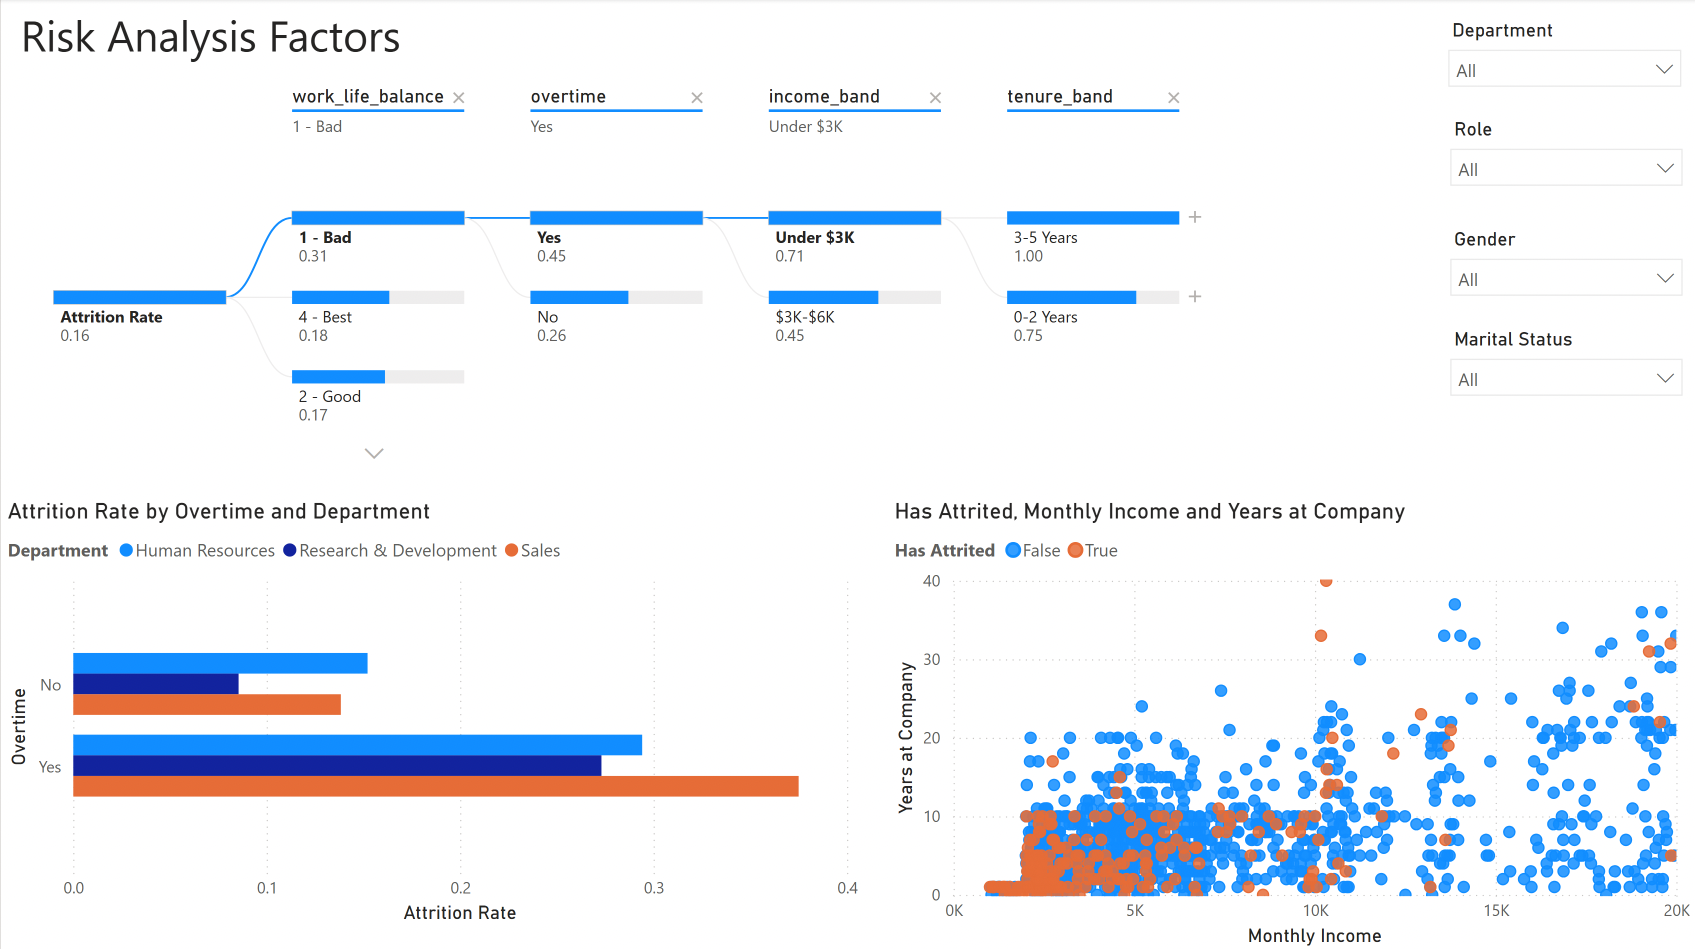

Layout of this report page (visuals, bound fields, positions):
{"tool":"powerbi","page":{"name":"Page 3 - Risk Analysis Factors","canvas":[1280,720],"ordinal":2},"visuals":[{"type":"textbox","box":[9.8,0,363.8,64.8],"z":0},{"type":"scatterChart","fields":{"Y":["fct_employees.years_at_company"],"X":["fct_employees.monthly_income"],"Series":["fct_employees.is_attrition"]},"box":[669.7,377.2,610.3,343],"z":1000},{"type":"clusteredBarChart","fields":{"Y":["_Measures.Attrition Rate"],"Category":["fct_employees.overtime"],"Series":["fct_employees.department"]},"box":[0,377.2,651.9,325.9],"z":2000},{"type":"decompositionTreeVisual","fields":{"Analyze":["_Measures.Attrition Rate"],"ExplainBy":["fct_employees.work_life_balance","fct_employees.overtime","fct_employees.income_band","fct_employees.tenure_band","fct_employees.job_satisfaction"]},"box":[9.7,48.3,1073.6,311.8],"z":3000},{"type":"slicer","fields":{"Values":["fct_employees.department"]},"box":[1083.2,9.7,196,75],"z":4000},{"type":"slicer","fields":{"Values":["fct_employees.job_role"]},"box":[1084.7,84.6,195.3,83.2],"z":5000},{"type":"slicer","fields":{"Values":["fct_employees.gender"]},"box":[1084.7,167.8,195.3,75.7],"z":6000},{"type":"slicer","fields":{"Values":["fct_employees.marital_status"]},"box":[1084.7,243.5,195.3,78.7],"z":7000}]}

Visuals, with their boxes in screenshot pixels (x1, y1, x2, y2), scaled from the page's 1280x720 canvas onto the 1695x949 screenshot:
textbox: (13, 0, 495, 85)
scatterChart - fct_employees.years_at_company x fct_employees.monthly_income: (887, 497, 1694, 948)
clusteredBarChart - _Measures.Attrition Rate x fct_employees.overtime: (0, 497, 863, 927)
decompositionTreeVisual - _Measures.Attrition Rate x fct_employees.work_life_balance: (13, 64, 1435, 475)
slicer - fct_employees.department: (1434, 13, 1694, 112)
slicer - fct_employees.job_role: (1436, 112, 1694, 221)
slicer - fct_employees.gender: (1436, 221, 1694, 321)
slicer - fct_employees.marital_status: (1436, 321, 1694, 425)
